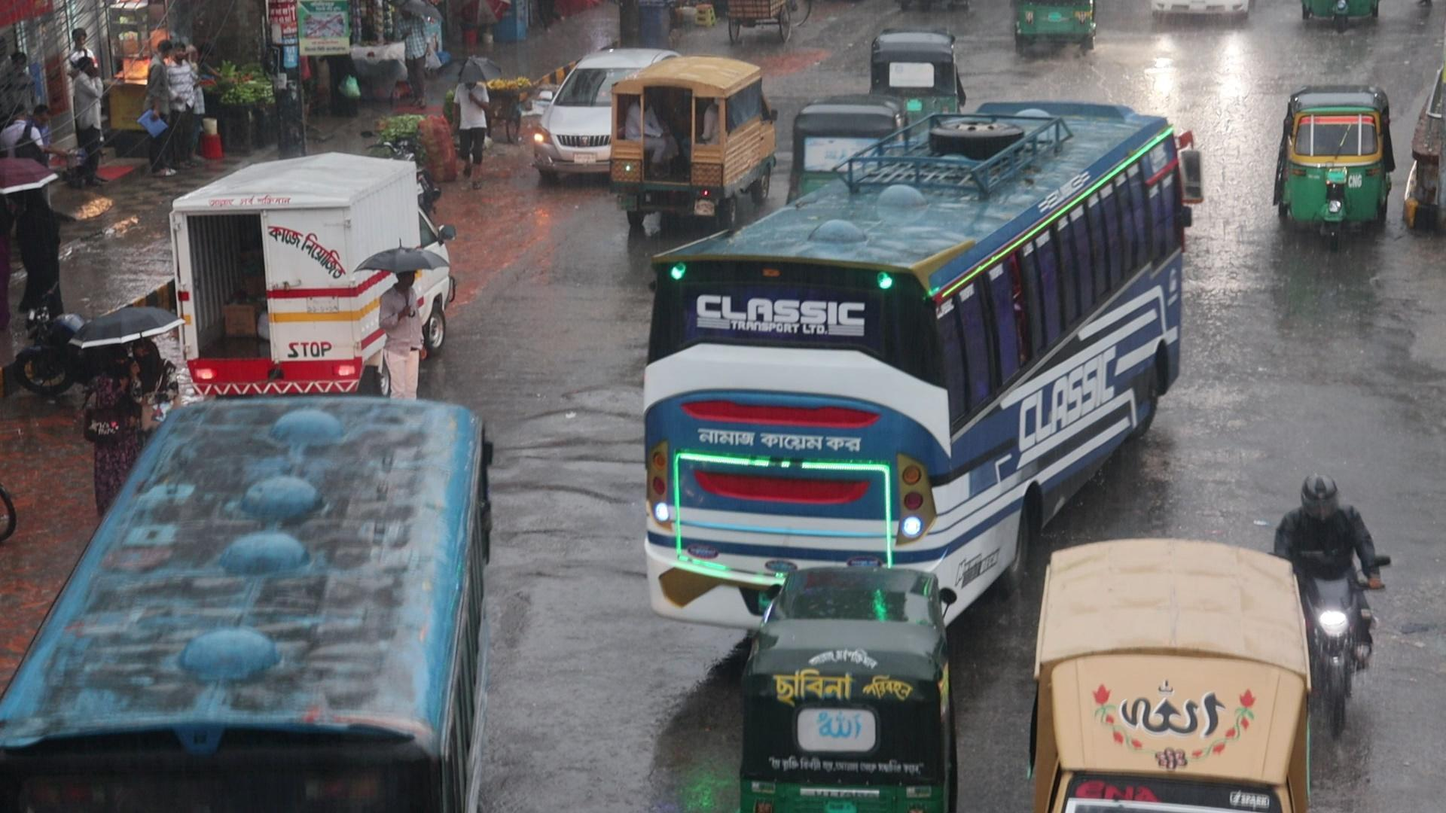Bike: (1281, 469, 1393, 741)
Bus: (639, 95, 1208, 564), (3, 378, 508, 813)
Truck: (1030, 532, 1315, 813), (606, 52, 779, 222)
